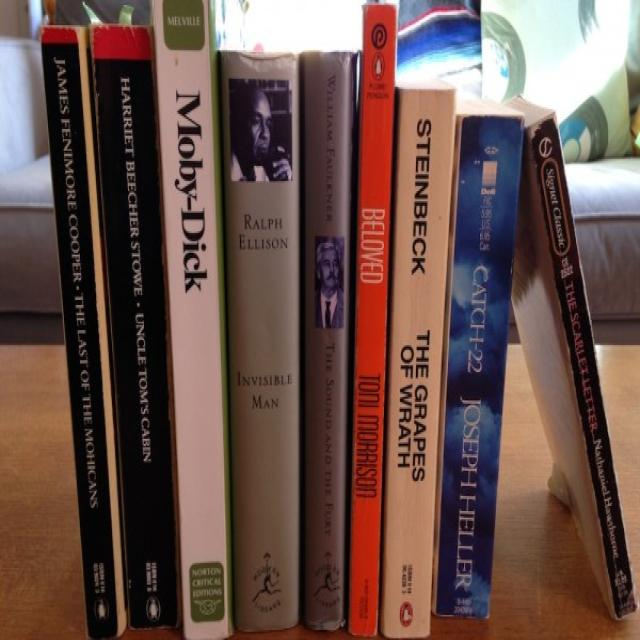Books: (508, 98, 638, 617), (91, 26, 179, 628), (41, 27, 126, 638), (154, 0, 232, 638), (432, 104, 524, 617), (220, 51, 300, 630), (380, 86, 455, 638), (300, 51, 358, 629), (349, 4, 396, 635)
